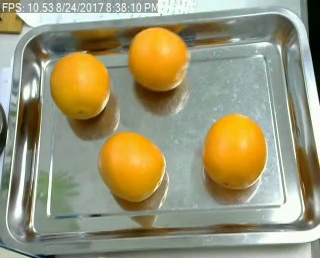Orange: (202, 112, 268, 189), (98, 132, 166, 202), (51, 51, 112, 118), (127, 25, 188, 90)
